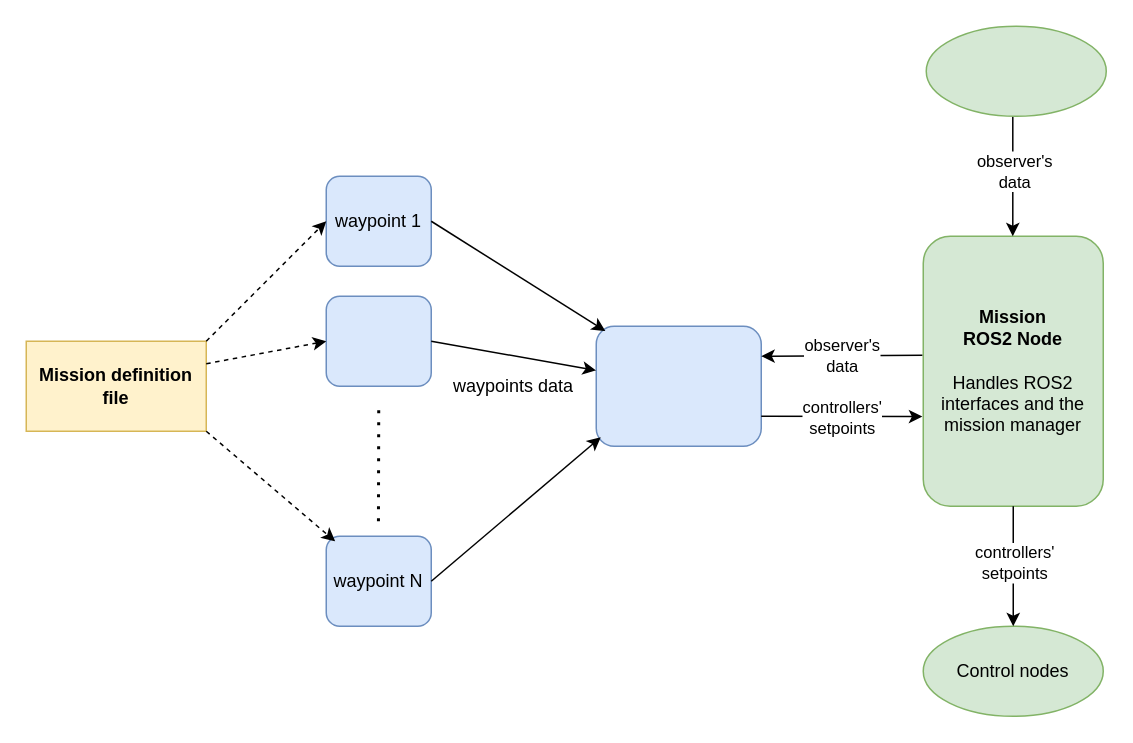
Image size: 1133x743. Some labels were removed from this diagram. Each missing label, with the centre of its shape:
Mission manager: [678,385]
Observation nodes: [1015,70]
waypoint 2: [378,340]
